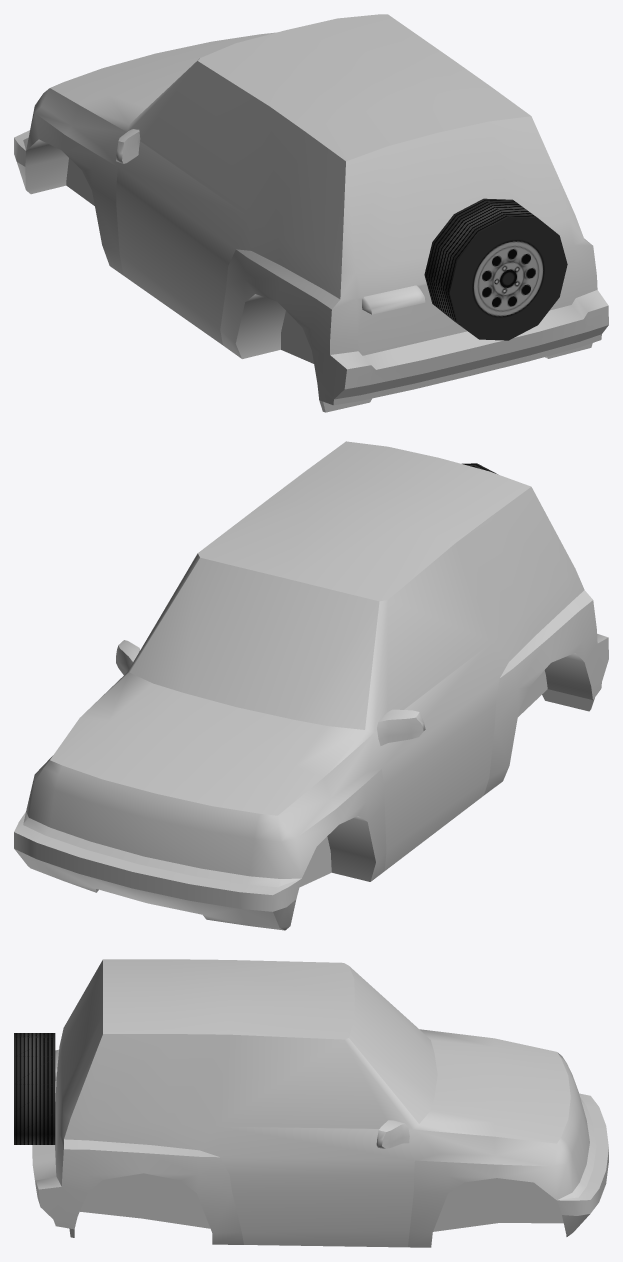
The model's file is vehicle_fhqsidekick.fbx.
3 renders of one model, top to bottom at view 1: azimuth 30°, elevation 25°; view 2: azimuth 150°, elevation 25°; view 3: azimuth 270°, elevation 25°, orthographic. The views are drawn at different scales.
Visible parts, largest first — view 1: fhqVitara, VitaraSpare; view 2: fhqVitara; view 3: fhqVitara, VitaraSpare.
Boxes of the visible parts, box(x1,y1,x2,y2) form: fhqVitara: box(14, 14, 608, 412); VitaraSpare: box(424, 198, 567, 340); fhqVitara: box(14, 441, 608, 930); fhqVitara: box(32, 959, 608, 1247); VitaraSpare: box(14, 1033, 55, 1144).
Bounding box in the file's own units: 2.11 × 1.62 × 4.27.
